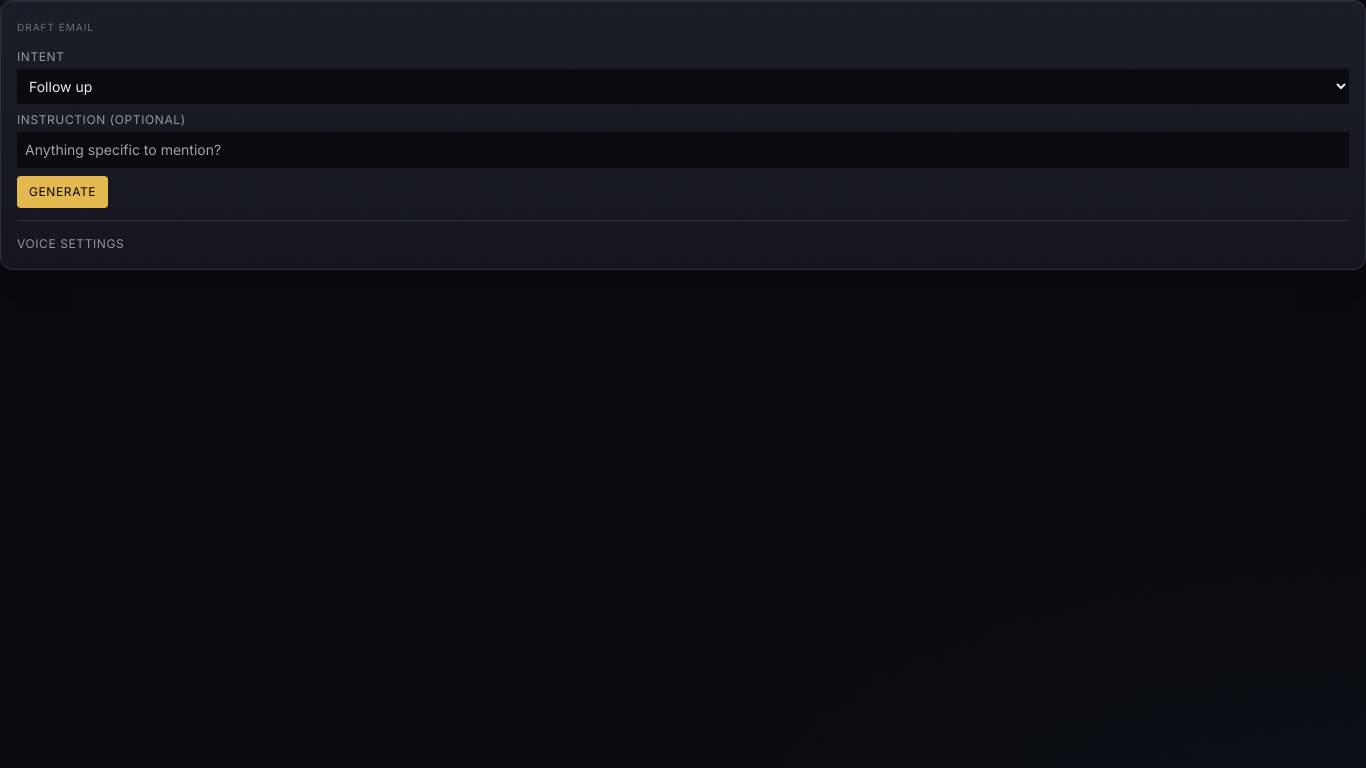
DraftEmailPanel — voice section › saves the per-customer style note via saveCustomerStyleNote with the customerId
Click the button "Voice settings" at (71,244), box top-left (17, 236), bottom-right (124, 252)
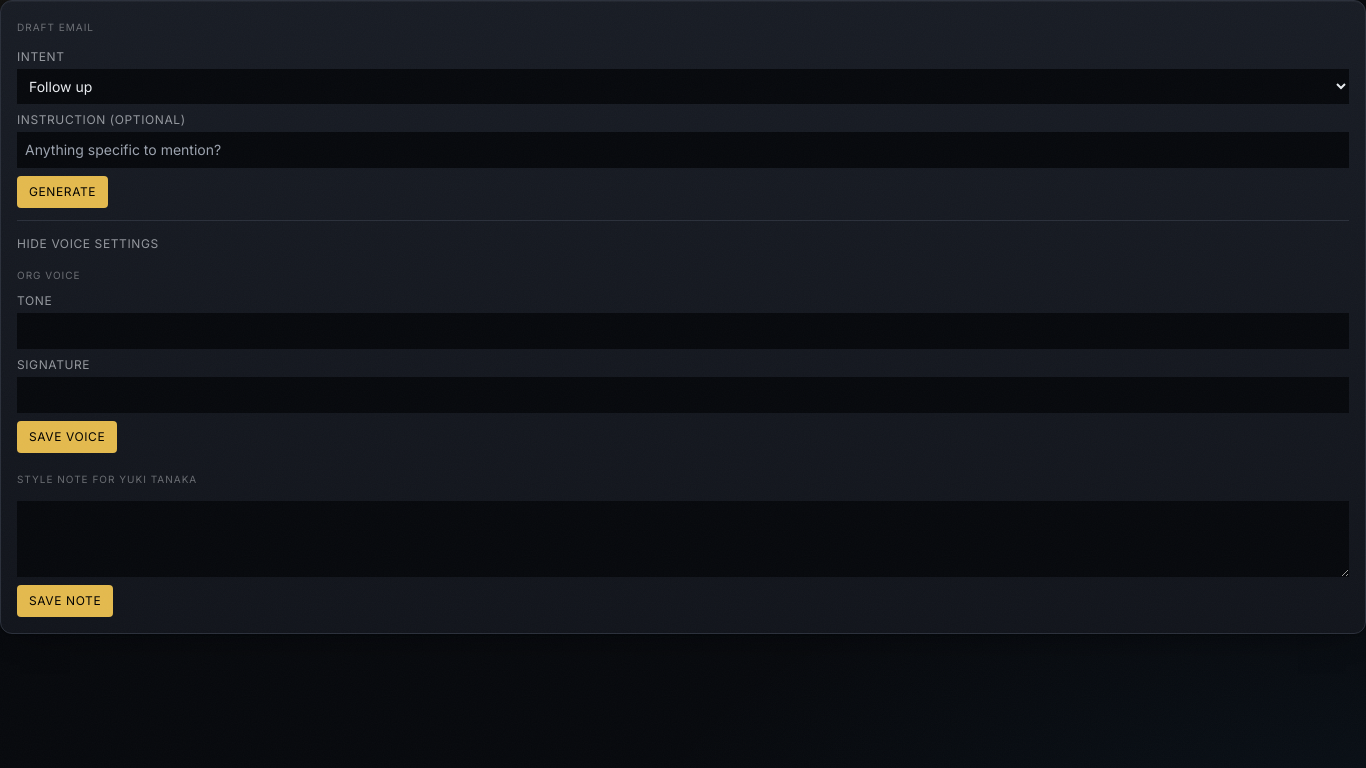
Type "Prefers concise, no small talk" into the text box named "customer style note" at (683,539), box top-left (17, 501), bottom-right (1349, 577)
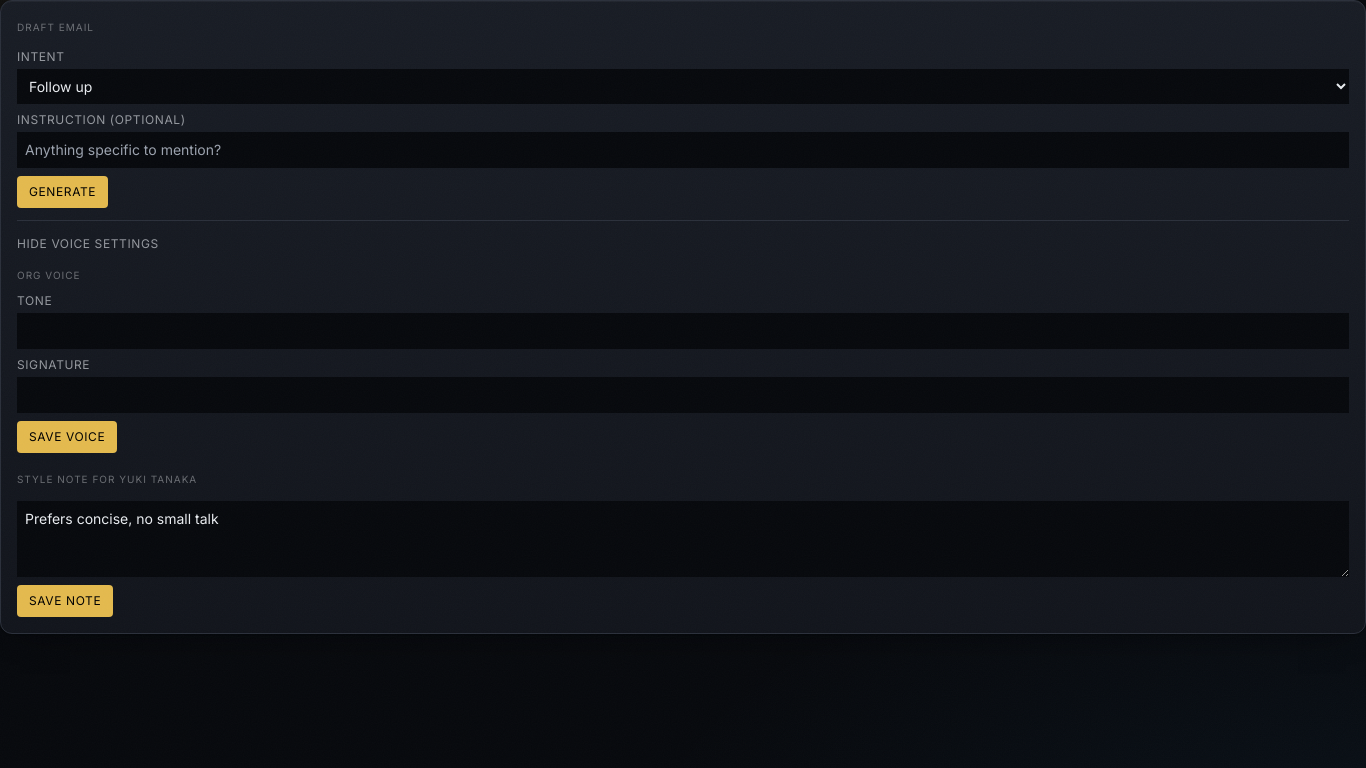
Now the button "Save note" is enabled
Click the button "Save note" at (65,601), box top-left (17, 585), bottom-right (113, 617)
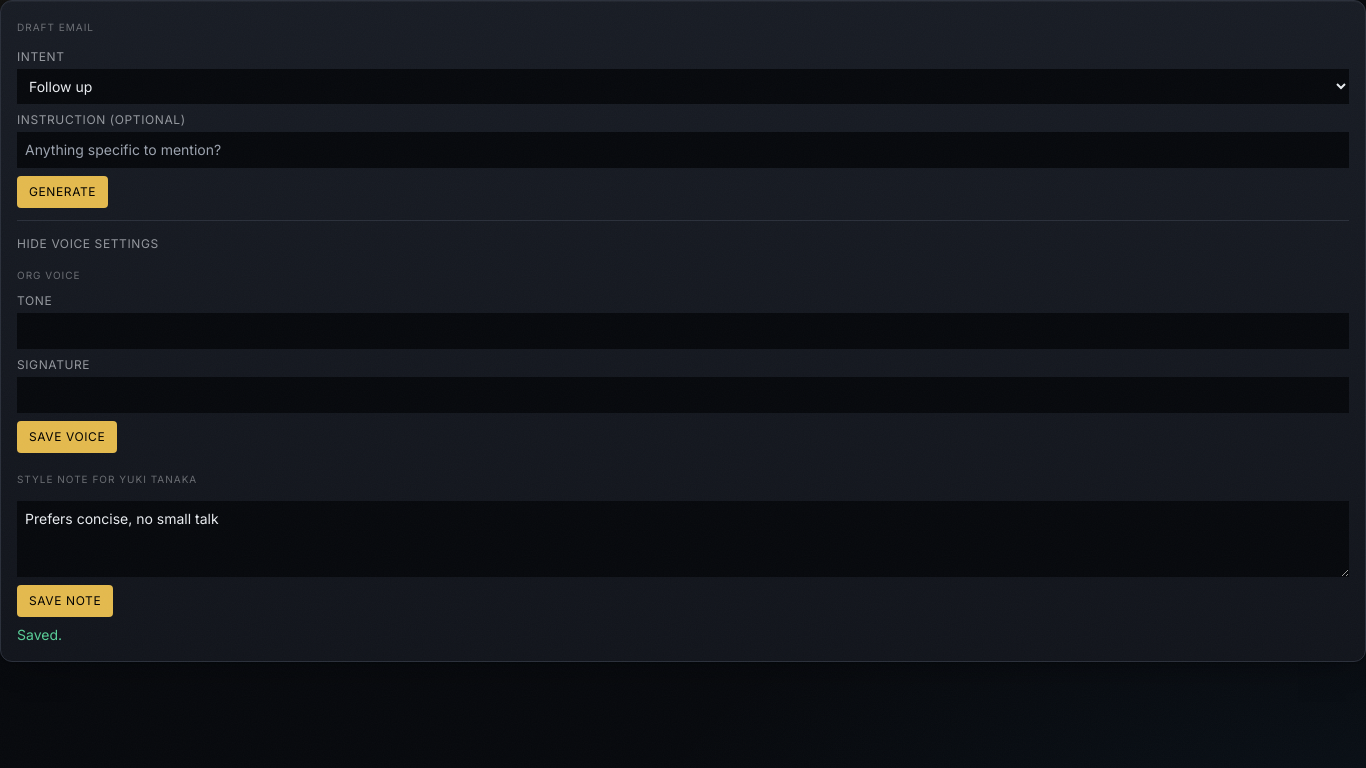
Now the text "Saved." is shown, box top-left (17, 626), bottom-right (62, 643)
